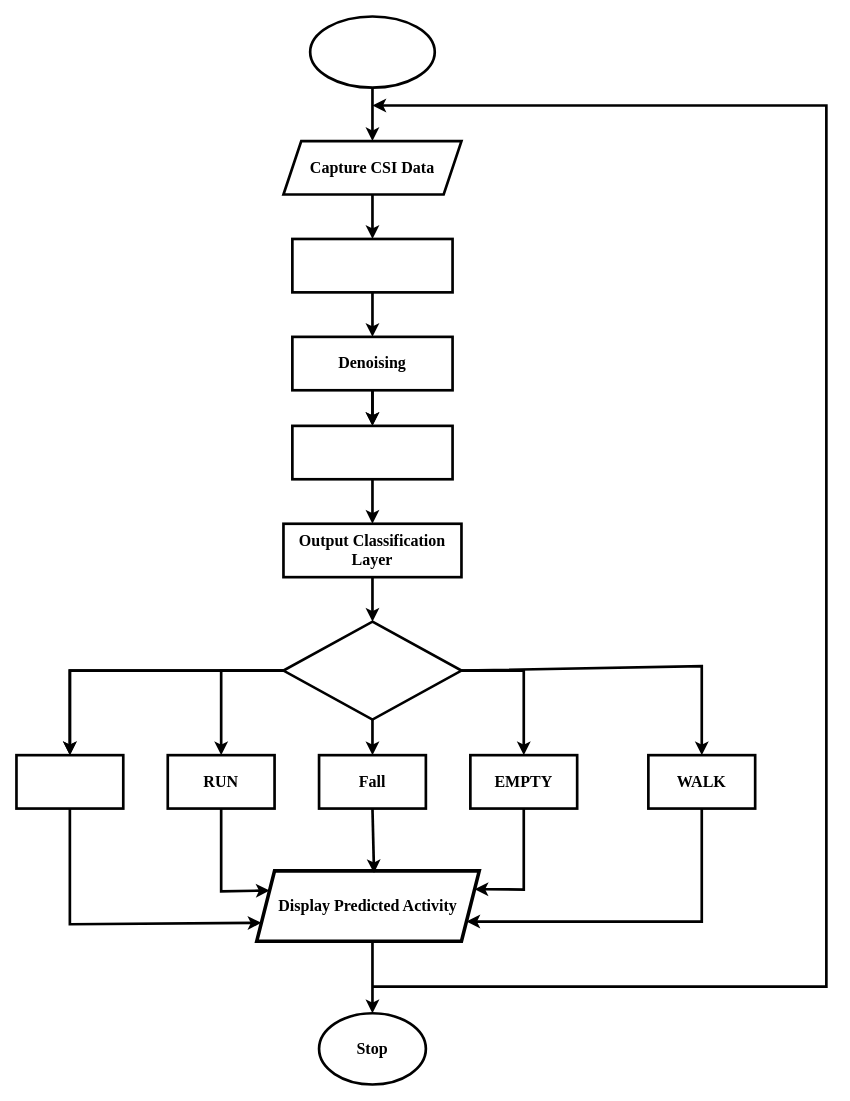
Image size: 850x1101. Some labels were removed from this diagram. The shapes that lost their labels are listed below. From the top down, each one's box as (x1, y1, x2, y2) in pixels, then its label:
(308, 15, 436, 89): Start
(291, 237, 453, 293): Outliers Removal
(291, 424, 453, 480): LSTM
(282, 620, 462, 720): Activity Prediction
(15, 753, 124, 809): STAND
